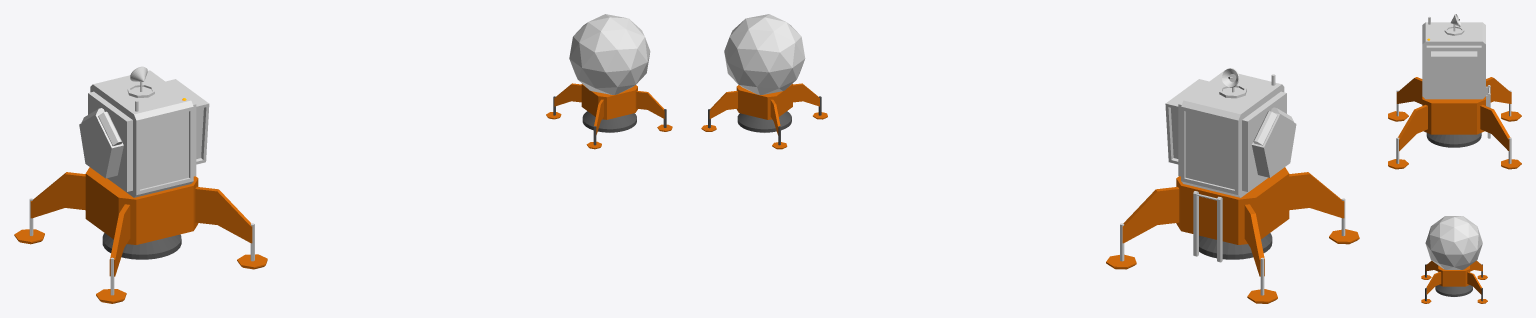
File: lander.glb
The picture shows the model from 3 angles, left to right: view 1: azimuth 30°, elevation 25°; view 2: azimuth 150°, elevation 25°; view 3: azimuth 270°, elevation 25°; orthographic projection. The views are drawn at different scales.
Parts seen in each view (by area): view 1: Cube.001, Cube, Icosphere.002, Cube.005, Cylinder.006, Cylinder, Cylinder.024; view 2: Cube.001, Cube, Icosphere.002, Cube.005, Cylinder.006, Cylinder, Cylinder.024; view 3: Cube.001, Cube, Icosphere.002, Cube.005, Cylinder, Cylinder.024, Cylinder.012, Cylinder.014, Cylinder.013, Cylinder.015, Cylinder.001.
Part boxes in pixels (x1,y1,x2,y2): Cube.001: (88,70,209,197); Cube: (30,167,252,276); Icosphere.002: (569,14,650,94); Cube.005: (554,83,664,134); Cylinder.006: (79,108,123,178); Cylinder: (102,233,181,259); Cylinder.024: (582,111,636,132); Cube.001: (1165,70,1286,197); Cube: (1122,167,1344,276); Icosphere.002: (724,14,805,94); Cube.005: (709,83,819,135); Cylinder.006: (1252,107,1296,177); Cylinder: (1199,233,1272,259); Cylinder.024: (737,111,791,132); Cube.001: (1422,22,1485,99); Cube: (1396,77,1511,151); Icosphere.002: (1425,216,1482,269); Cube.005: (1425,260,1482,294); Cylinder: (1426,133,1481,147); Cylinder.024: (1435,285,1472,296); Cylinder.012: (1501,111,1521,121); Cylinder.014: (1388,111,1408,121); Cylinder.013: (1388,159,1408,169); Cylinder.015: (1501,159,1521,169); Cylinder.001: (1444,26,1464,35).
Size of what is drawn, in the model's own units: 14.97 by 4.42 by 4.21.
